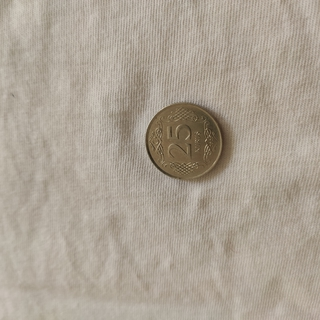25KURUS: (143, 101, 225, 181)
